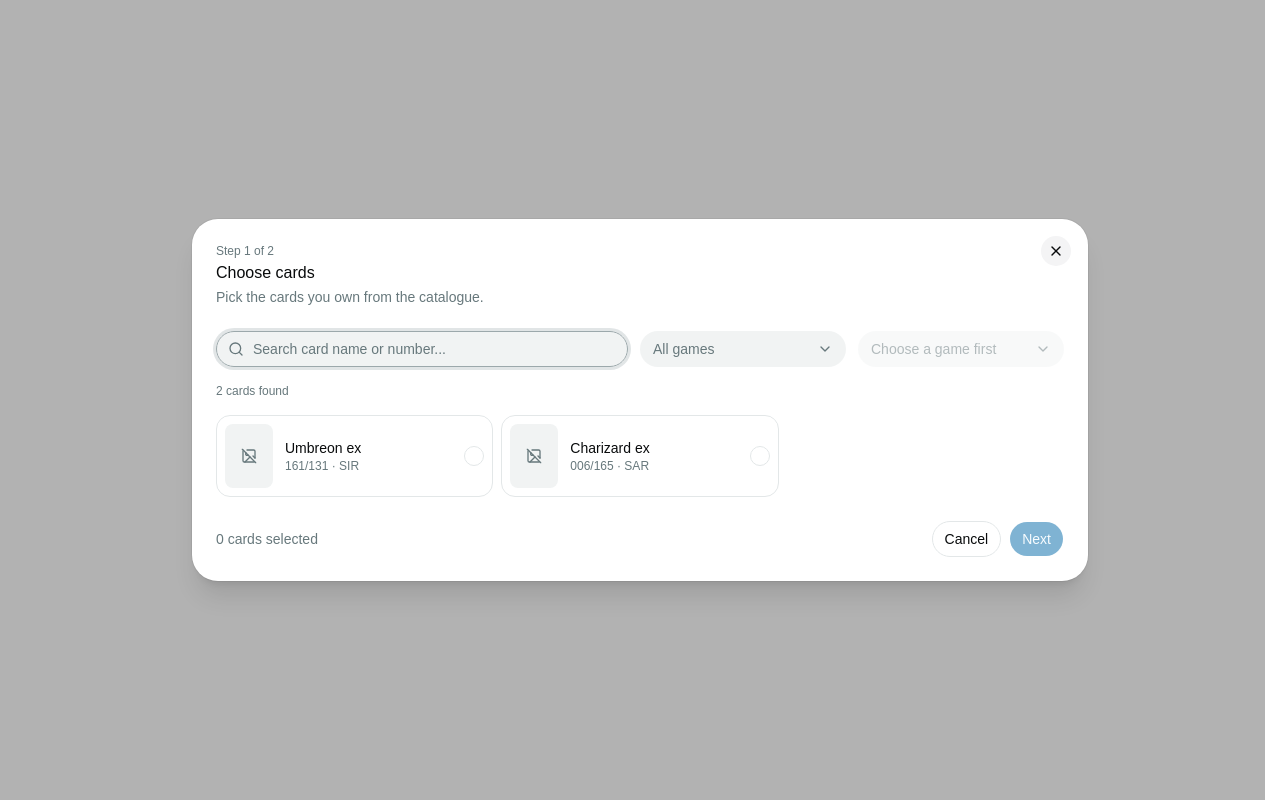
it: AddCardsDialog › keeps a card that failed and shows why, so it can be retried
Click the button "Umbreon ex 161/131 · SIR" at (355, 456), box [216, 415, 493, 497]
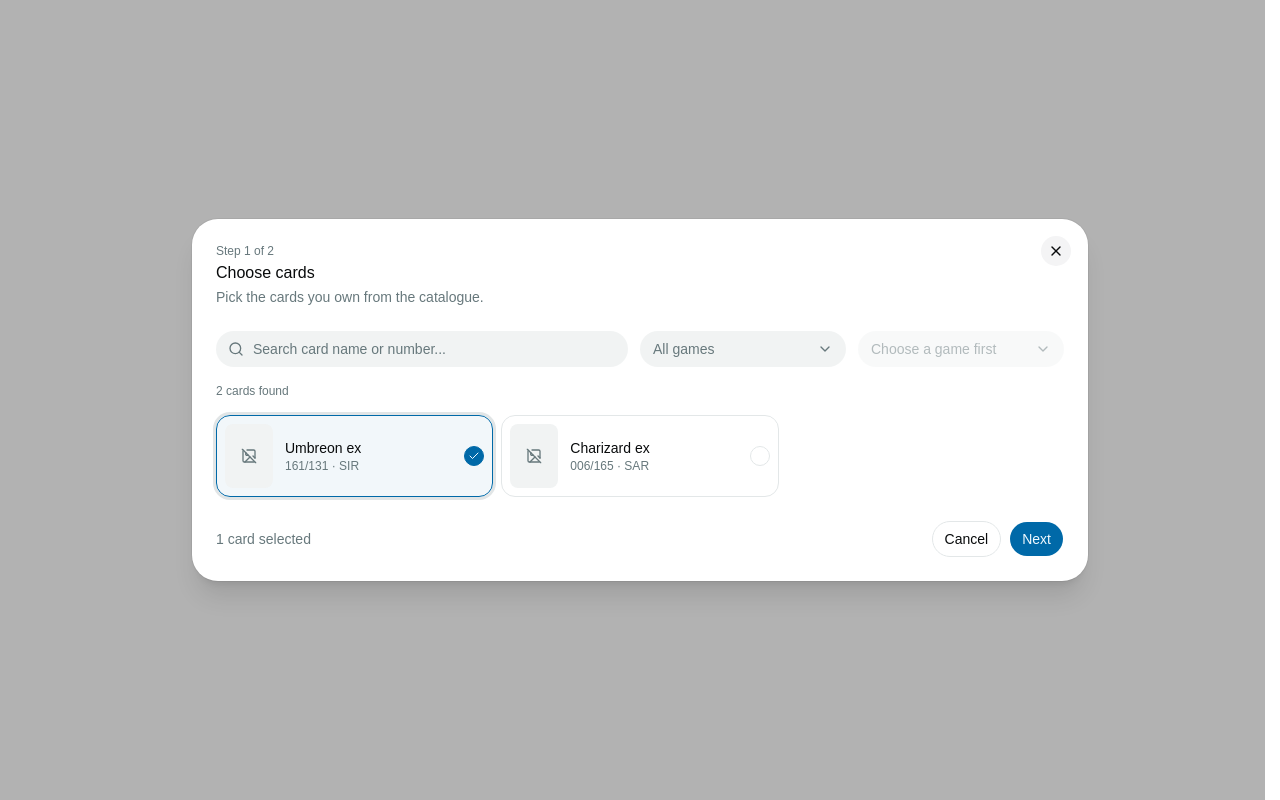
Click the button "Charizard ex 006/165 · SAR" at (640, 456), box [501, 415, 779, 497]
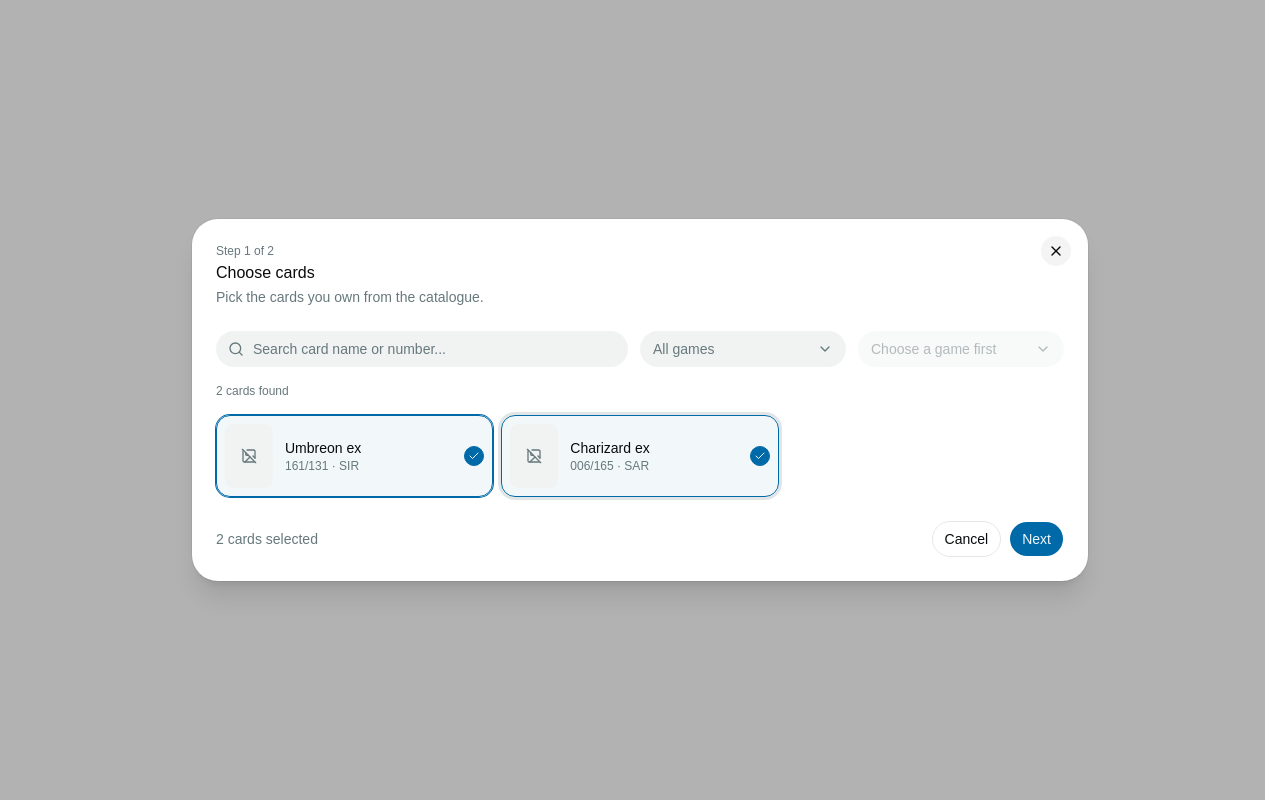
Click the button "Next" at (1037, 539), box [1009, 521, 1064, 557]
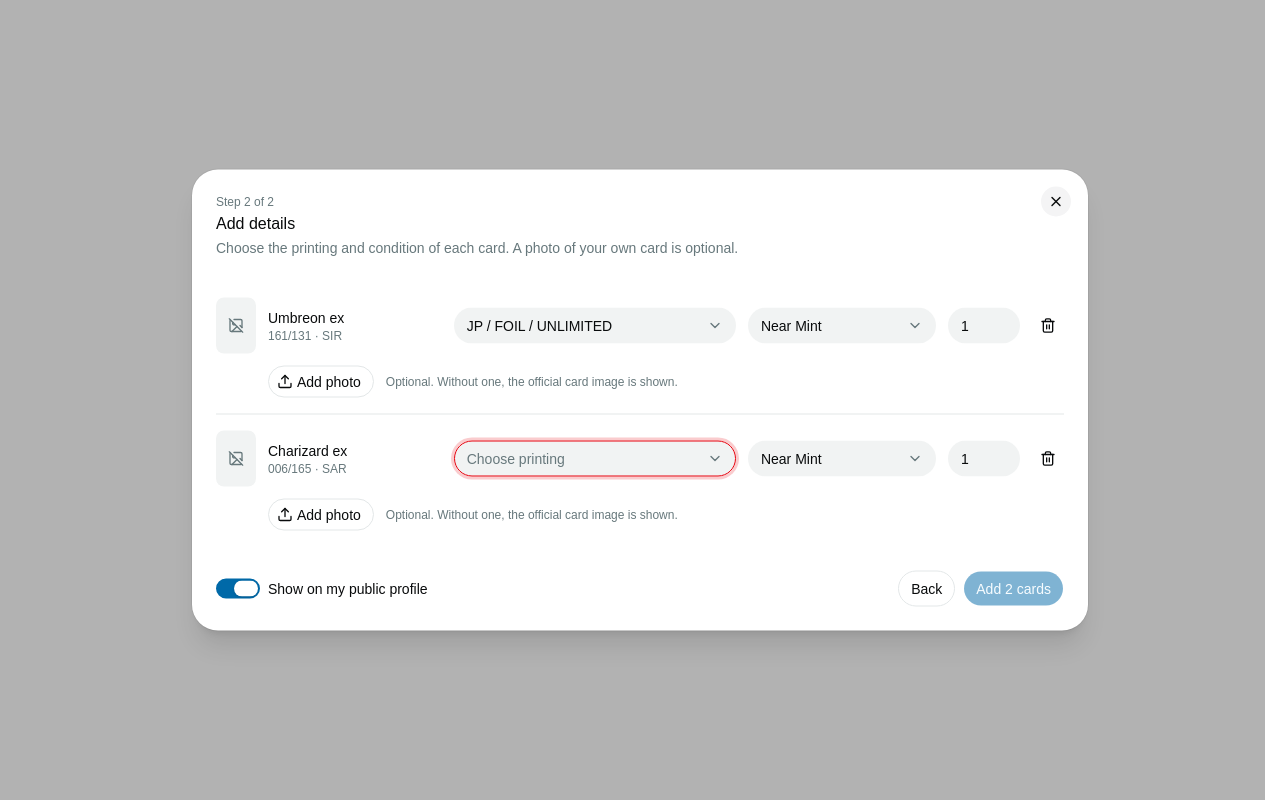
Now the dropdown named "Printing of Charizard ex" is shown
Click the dropdown named "Printing of Charizard ex" at (516, 458), box [454, 440, 736, 476]
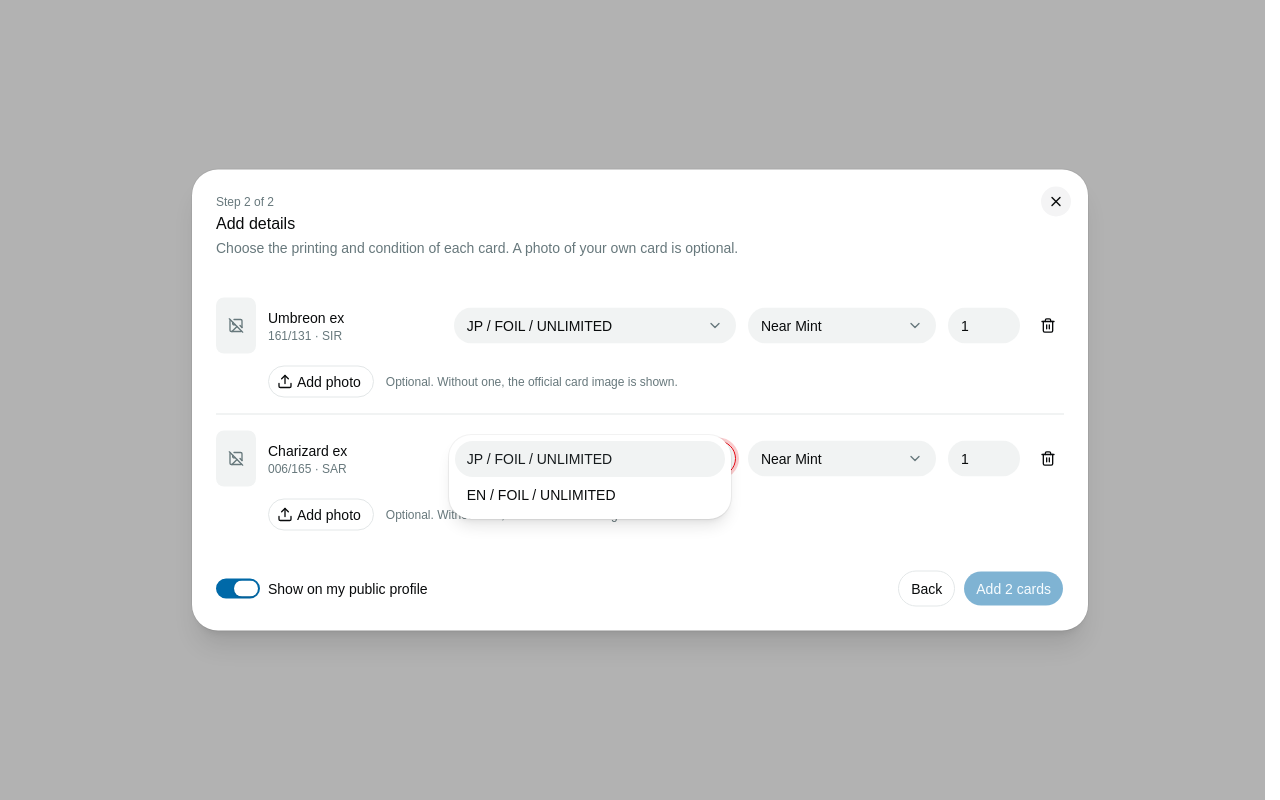
Click the option "JP / FOIL / UNLIMITED" at (590, 458), box [455, 440, 725, 476]
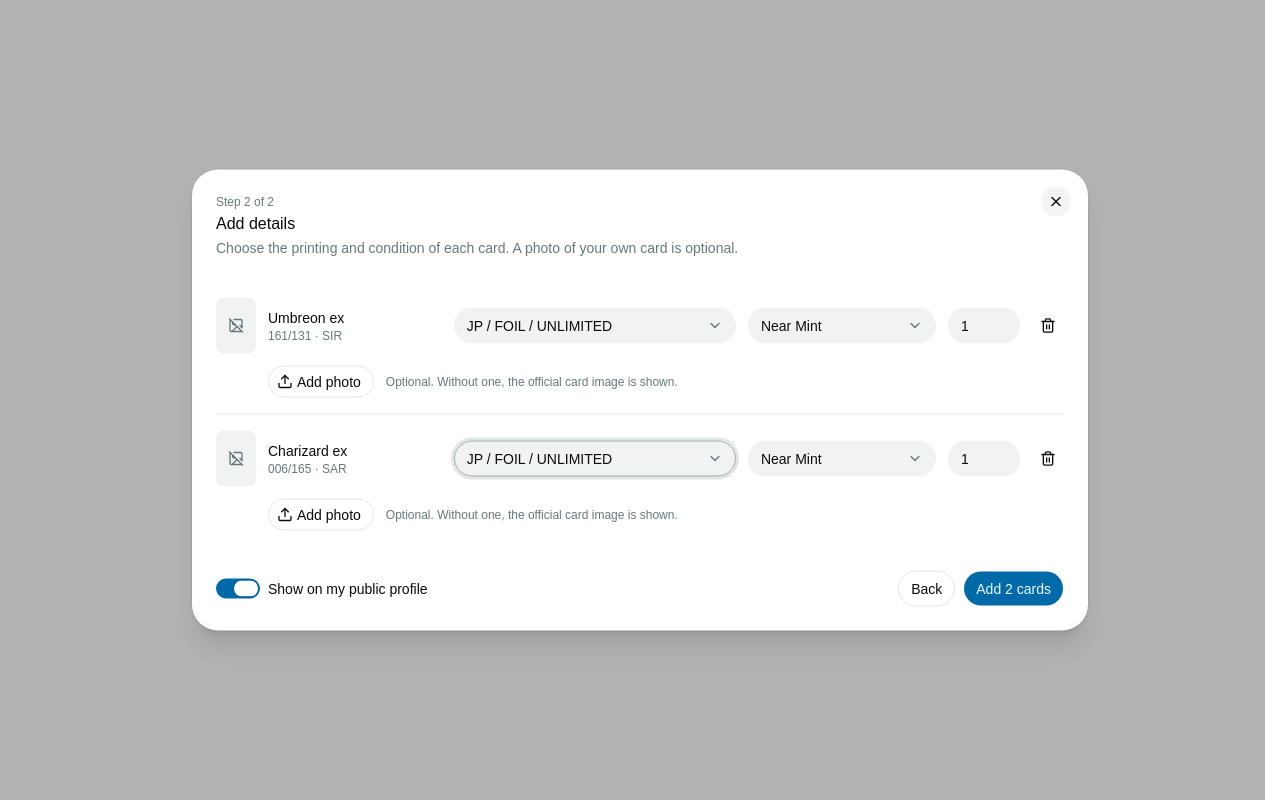
Click the button "Add 2 cards" at (1014, 588), box [963, 570, 1064, 606]
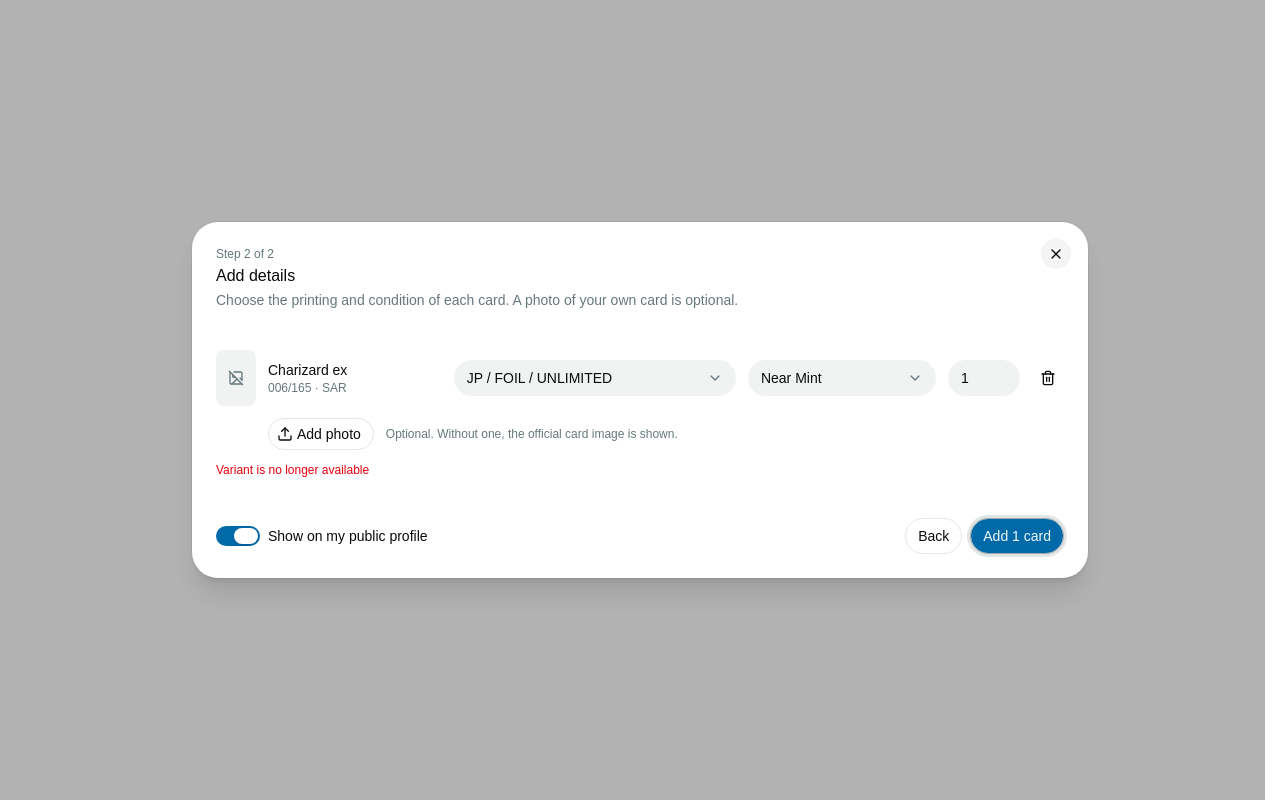
Now the dropdown named "Printing of Charizard ex" is shown, box [454, 360, 736, 396]
Now the message reads "Variant is no longer available", box [216, 463, 369, 477]
